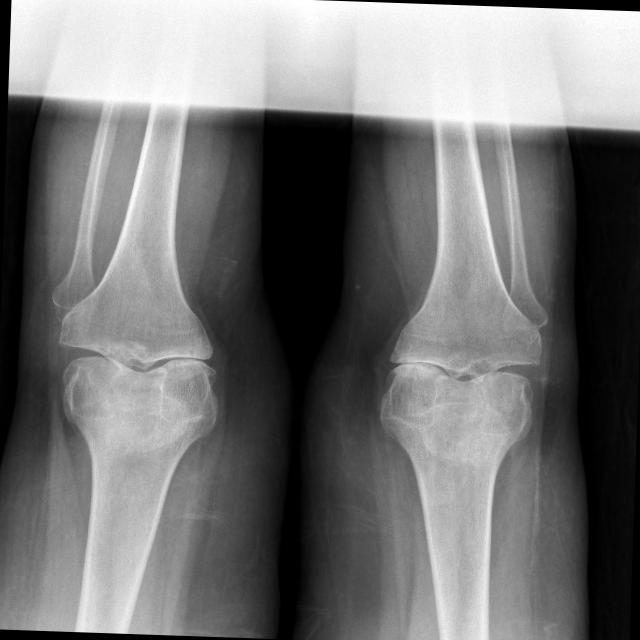Knee: (50, 300, 218, 430), (374, 317, 543, 430)
